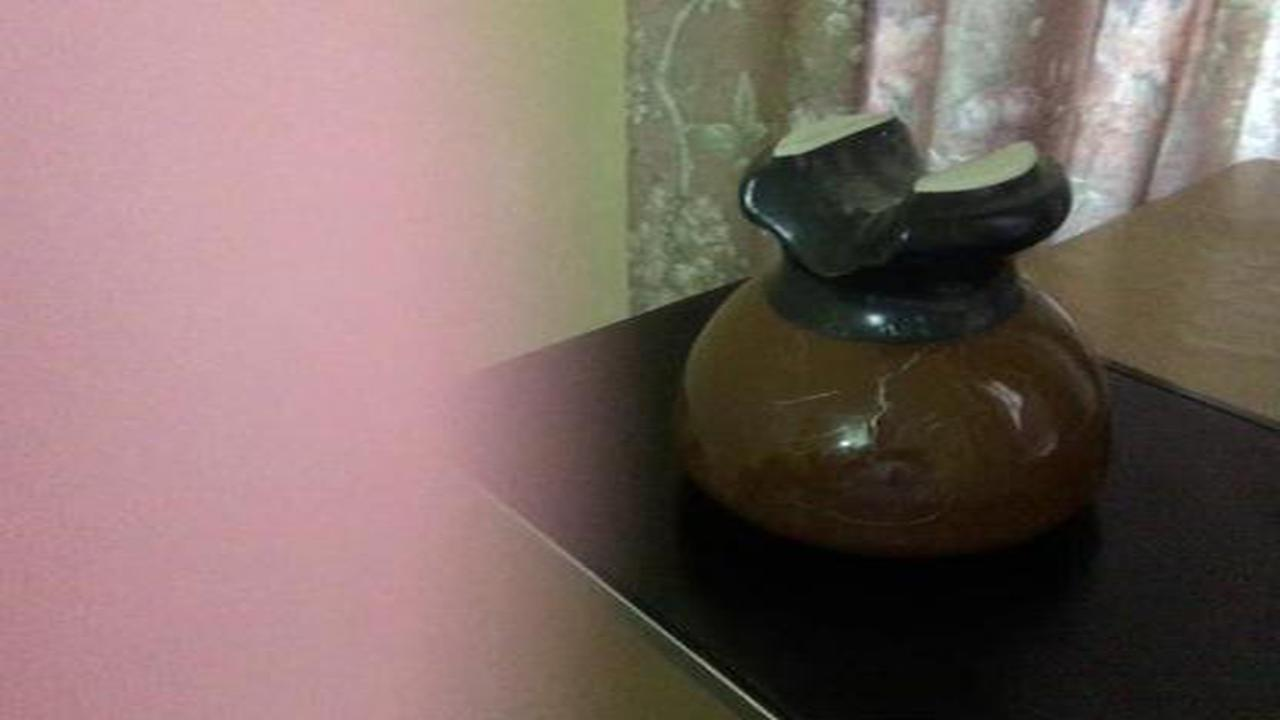insulator_pin: (637, 101, 1139, 575)
